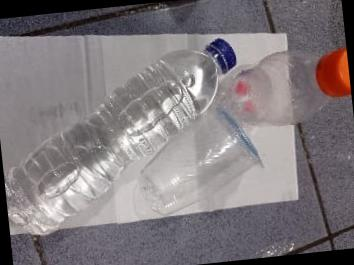Plastik: (5, 40, 236, 234), (140, 107, 260, 214), (219, 51, 329, 123)
